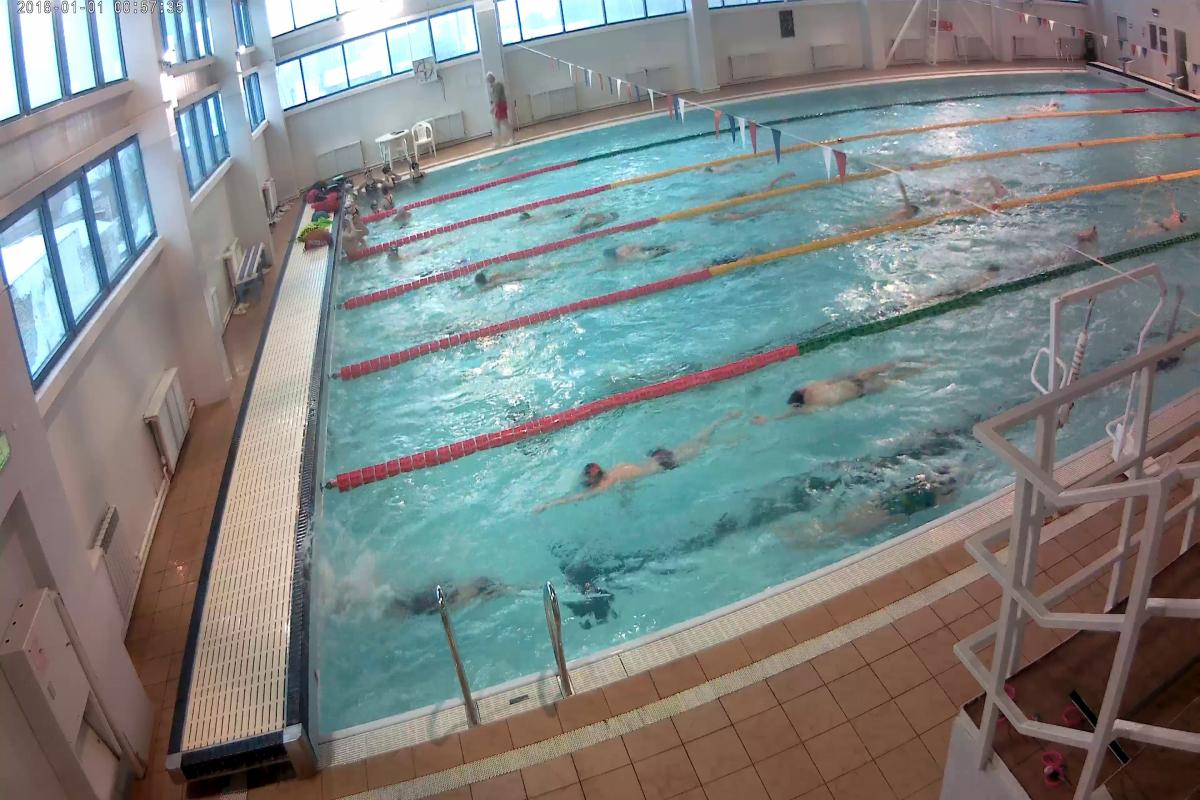swimmer: (545, 429, 714, 504), (759, 357, 909, 423), (867, 182, 922, 228), (1131, 200, 1192, 241), (589, 237, 662, 271), (458, 264, 527, 297), (380, 239, 452, 270), (510, 202, 562, 235), (572, 206, 626, 237)
